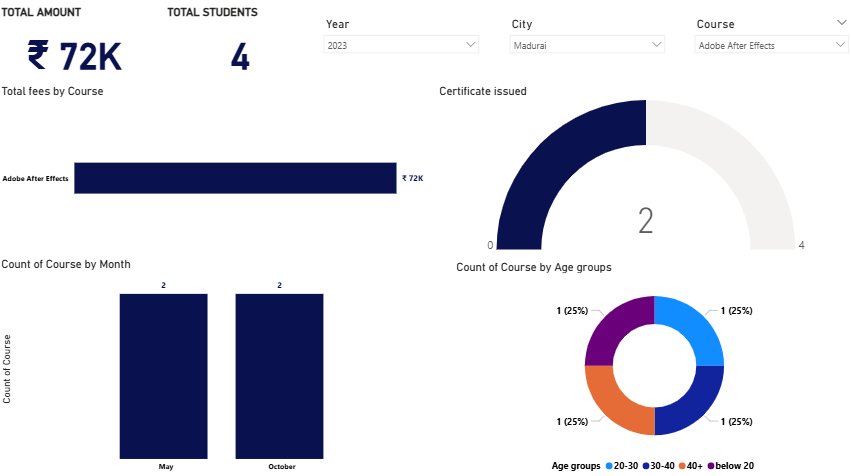

The dashboard page shown, as its layout file describes it:
{"tool":"powerbi","page":{"name":"Empowering Real world skills:Student & Course Analytics","canvas":[1280,720],"ordinal":0},"visuals":[{"type":"clusteredColumnChart","fields":{"Category":["Student Course Details.Date of Join.Variation.Date Hierarchy.Year","Student Course Details.Date of Join.Variation.Date Hierarchy.Quarter","Student Course Details.Date of Join.Variation.Date Hierarchy.Month","Student Course Details.Date of Join.Variation.Date Hierarchy.Day"],"Y":["Student Course Details.Course"]},"box":[0,389.9,653.6,330.4],"z":0},{"type":"donutChart","fields":{"Y":["Student Course Details.Course"],"Category":["Student Course Details.Age groups"]},"box":[678.6,394.8,601.4,325.9],"z":1000},{"type":"clusteredBarChart","title":"Total fees by Course","fields":{"Category":["Student Course Details.Course"],"Y":["Student Course Details.Fees.2"]},"box":[0,131.9,640.6,256.5],"z":2000},{"type":"card","title":"TOTAL AMOUNT","fields":{"Values":["Student Course Details.fees"]},"box":[0,13,227.5,118.8],"z":3000},{"type":"card","title":"TOTAL STUDENTS","fields":{"Values":["personal details.Student Name"]},"box":[247.8,13,227.5,118.8],"z":4000},{"type":"gauge","title":"Certificate issued","fields":{"Y":["Student Course Details.Countyes"]},"box":[653.4,131,626.6,257],"z":5000},{"type":"slicer","fields":{"Values":["Student Course Details.Date of Join.Variation.Date Hierarchy.Year"]},"box":[475.4,25.2,252,94.1],"z":5001},{"type":"slicer","fields":{"Values":["personal details.City"]},"box":[754.2,25.2,252,94.1],"z":5002},{"type":"slicer","fields":{"Values":["Student Course Details.Course"]},"box":[1029.7,25.2,250.3,94.1],"z":5003}]}

Visuals, with their boxes in screenshot pixels (x1, y1, x2, y2), scaled from the page's 1280x720 canvas onto the 851x476 screenshot:
clusteredColumnChart - Student Course Details.Date of Join.Variation.Date Hierarchy.Year x Student Course Details.Date of Join.Variation.Date Hierarchy.Quarter: bbox=[0, 258, 435, 475]
donutChart - Student Course Details.Course x Student Course Details.Age groups: bbox=[451, 261, 850, 475]
"Total fees by Course" clusteredBarChart: bbox=[0, 87, 426, 257]
"TOTAL AMOUNT" card: bbox=[0, 9, 151, 87]
"TOTAL STUDENTS" card: bbox=[165, 9, 316, 87]
"Certificate issued" gauge: bbox=[434, 87, 850, 257]
slicer - Student Course Details.Date of Join.Variation.Date Hierarchy.Year: bbox=[316, 17, 484, 79]
slicer - personal details.City: bbox=[501, 17, 669, 79]
slicer - Student Course Details.Course: bbox=[685, 17, 850, 79]
